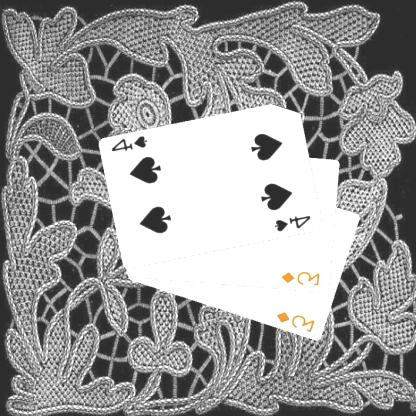3D: (276, 309, 318, 334), (280, 269, 323, 287)
4S: (110, 133, 151, 153), (274, 214, 314, 234)
